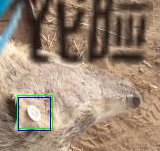text: (17, 95, 52, 128)
